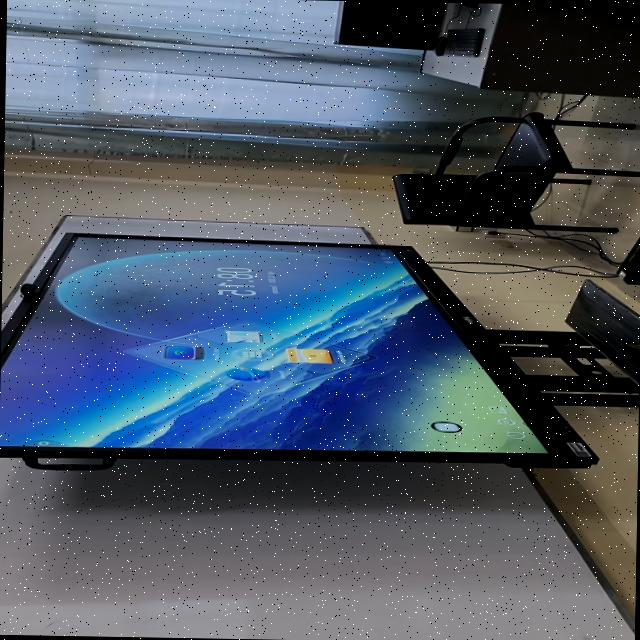Chair: (393, 112, 640, 233)
Cpu: (334, 0, 444, 49)
Digital board: (0, 230, 618, 470)
Keyboard: (442, 28, 483, 56)
Mouse: (432, 36, 446, 55)
